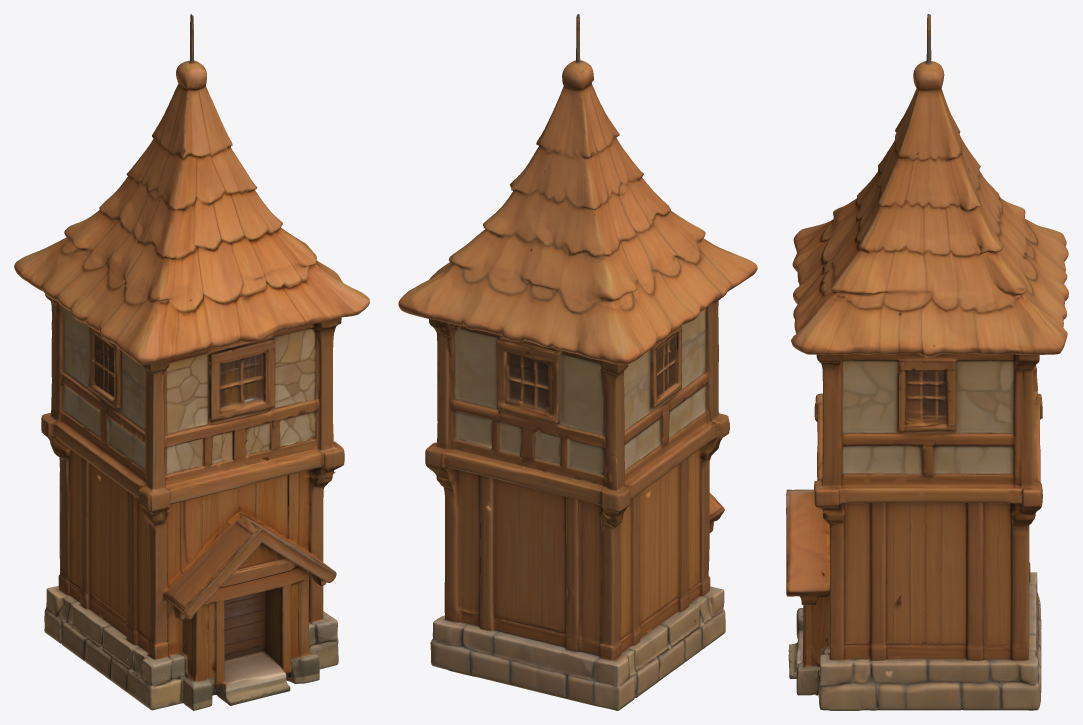
Rendered from Medieval_Tower_House_0722214127_texture.fbx.
3 renders of one model, left to right at view 1: azimuth 30°, elevation 25°; view 2: azimuth 150°, elevation 25°; view 3: azimuth 270°, elevation 25°, orthographic. The views are drawn at different scales.
Visible parts, largest first — view 1: Mesh_0; view 2: Mesh_0; view 3: Mesh_0.
Part boxes in pixels (x1=…): Mesh_0: x1=14, y1=14, x2=369, y2=710; Mesh_0: x1=398, y1=14, x2=757, y2=710; Mesh_0: x1=786, y1=14, x2=1068, y2=710.
Size of the model in its own units: 78.27 by 200 by 78.98.
1 material, 1 textured.
